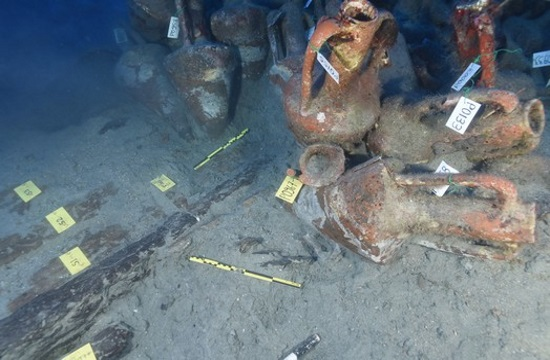amphora: (276, 157, 536, 262), (283, 1, 398, 145), (367, 90, 549, 167), (112, 21, 200, 148), (165, 1, 244, 137), (438, 1, 538, 104), (267, 1, 327, 108), (209, 1, 277, 84), (501, 6, 550, 55), (126, 1, 178, 47), (298, 144, 347, 187), (311, 1, 359, 42)
